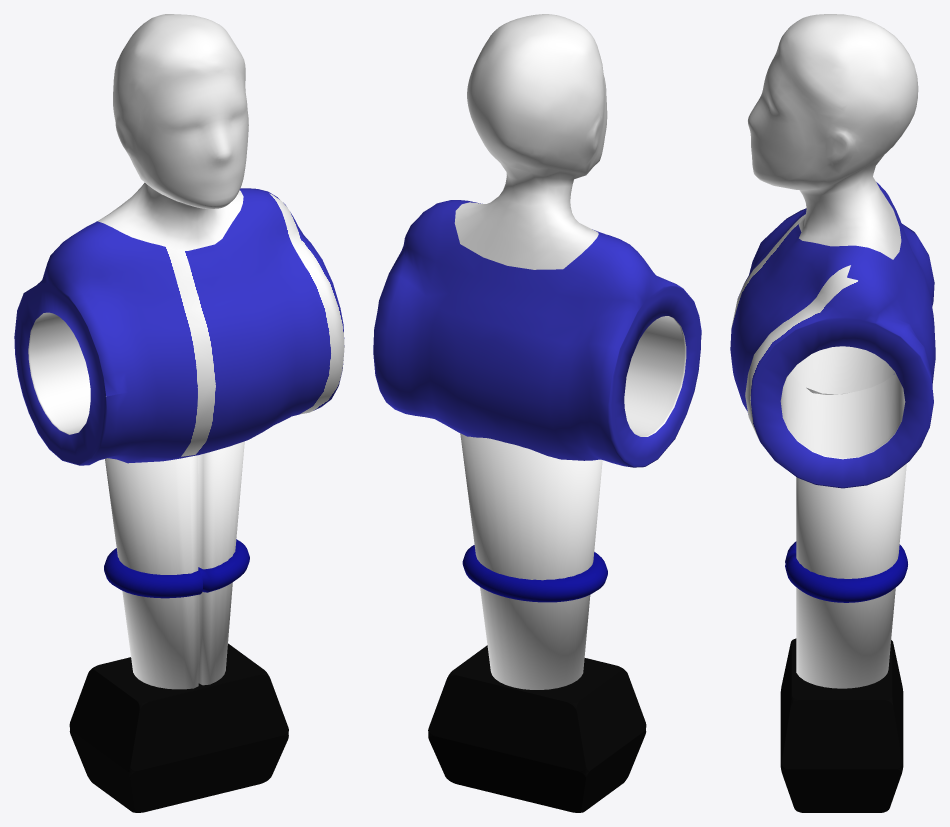
The model's file is blue_kit_2_foosball_player.obj.
3 renders of one model, left to right at view 1: azimuth 30°, elevation 25°; view 2: azimuth 150°, elevation 25°; view 3: azimuth 270°, elevation 25°, orthographic.
Parts seen in each view (by area): view 1: Socks_Torus; view 2: Socks_Torus; view 3: Socks_Torus.
Part boxes in pixels (left/top/right/bottom): Socks_Torus: left=14, top=14, right=344, bottom=812; Socks_Torus: left=373, top=14, right=701, bottom=812; Socks_Torus: left=730, top=14, right=935, bottom=812.
Bounding box in the file's own units: 4.49 × 13.64 × 3.34.
Materials: 4 (1 with a texture image).
